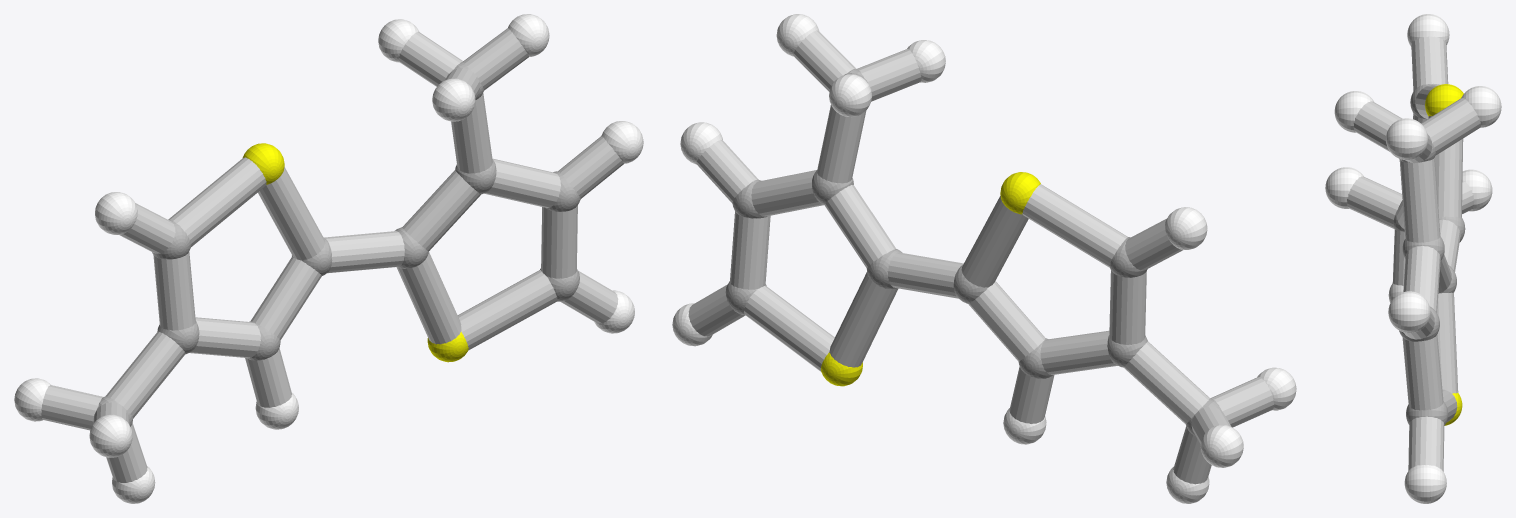
File: color.glb
The picture shows the model from 3 angles, left to right: view 1: azimuth 30°, elevation 25°; view 2: azimuth 150°, elevation 25°; view 3: azimuth 270°, elevation 25°; orthographic projection. The views are drawn at different scales.
Visible parts, largest first — view 1: grp7965, grp3621, grp1, grp7241; view 2: grp7965, grp3621, grp1, grp7241; view 3: grp7965, grp3621, grp1, grp7241.
Boxes of the visible parts, x1,y1,x2,y2 form: grp7965: [41, 28, 623, 482]; grp3621: [14, 14, 643, 503]; grp1: [97, 62, 580, 426]; grp7241: [242, 143, 468, 362]; grp7965: [688, 30, 1274, 484]; grp3621: [672, 14, 1296, 503]; grp1: [725, 69, 1222, 436]; grp7241: [821, 172, 1040, 386]; grp7965: [1346, 36, 1480, 471]; grp3621: [1325, 14, 1501, 503]; grp1: [1393, 83, 1465, 425]; grp7241: [1425, 84, 1463, 425].
Size of the model in its own units: 9.45 by 5.97 by 2.5.
